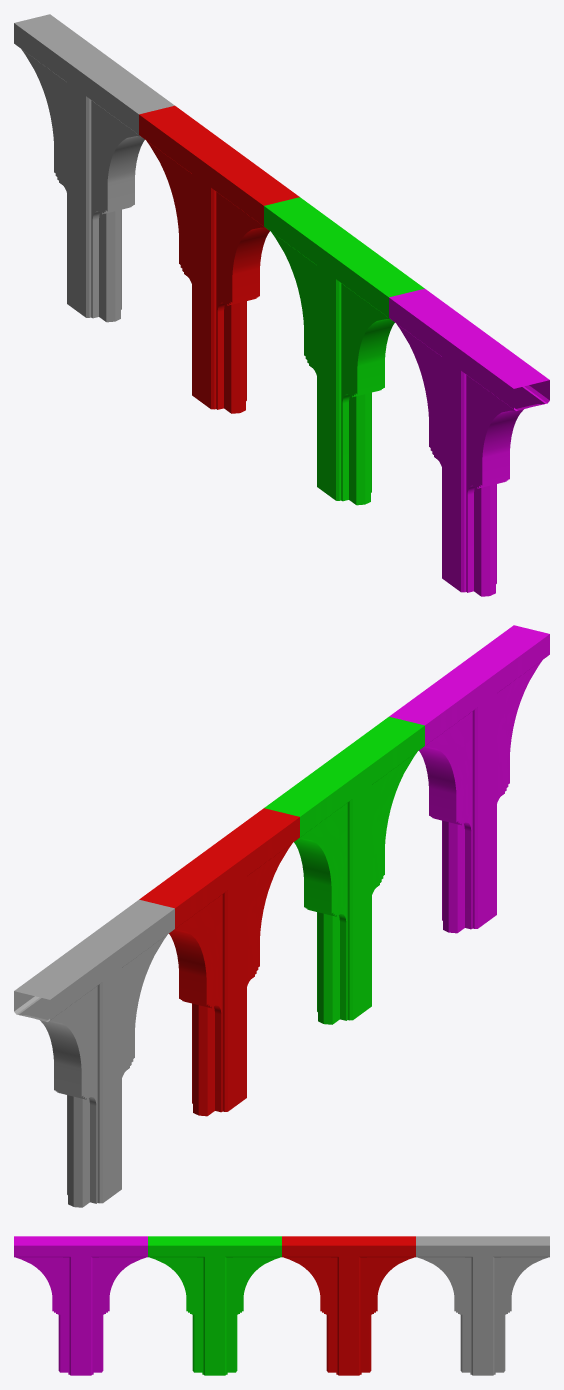
File: arch_for_sketchfab.fbx
3 renders of one model, top to bottom at view 1: azimuth 30°, elevation 25°; view 2: azimuth 150°, elevation 25°; view 3: azimuth 270°, elevation 25°, orthographic. The views are drawn at different scales.
Parts seen in each view (by area): view 1: pPlane5, pPlane8, pPlane9, pPlane7; view 2: pPlane9, pPlane7, pPlane5, pPlane8; view 3: pPlane5, pPlane7, pPlane8, pPlane9.
Boxes of the visible parts, x1=… form: pPlane5: x1=389, y1=288, x2=549, y2=596; pPlane8: x1=139, y1=105, x2=299, y2=413; pPlane9: x1=14, y1=14, x2=174, y2=322; pPlane7: x1=264, y1=197, x2=424, y2=505; pPlane9: x1=14, y1=899, x2=174, y2=1207; pPlane7: x1=264, y1=716, x2=424, y2=1024; pPlane5: x1=389, y1=625, x2=549, y2=933; pPlane8: x1=139, y1=808, x2=299, y2=1116; pPlane5: x1=14, y1=1236, x2=147, y2=1375; pPlane7: x1=148, y1=1236, x2=281, y2=1375; pPlane8: x1=282, y1=1236, x2=415, y2=1375; pPlane9: x1=416, y1=1236, x2=549, y2=1375.
Size of the model in its own units: 7.19 by 46.13 by 173.
